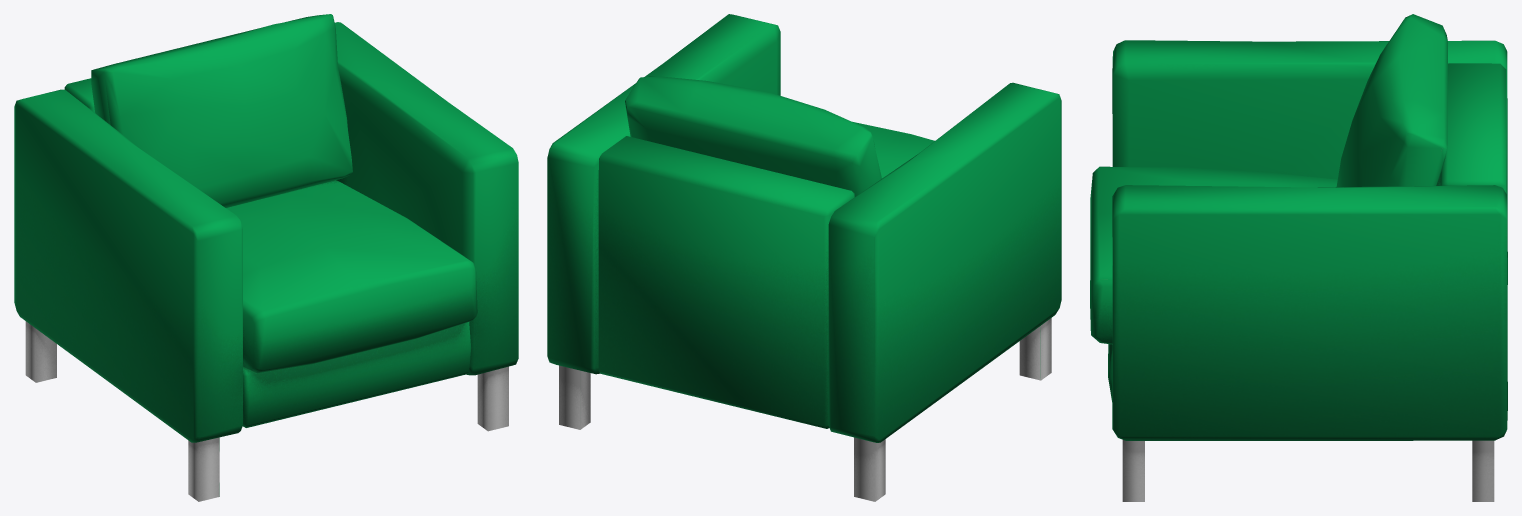
File: Sillon-Karlstad-PBR.gltf
3 views of the same model, side by side, from view 1: azimuth 30°, elevation 25°; view 2: azimuth 150°, elevation 25°; view 3: azimuth 270°, elevation 25° (orthographic). The views are drawn at different scales.
Parts seen in each view (by area): view 1: Chair Karlstad.001; view 2: Chair Karlstad.001; view 3: Chair Karlstad.001.
Part boxes in pixels (x1,y1,x2,y2): Chair Karlstad.001: [14, 14, 518, 501]; Chair Karlstad.001: [547, 14, 1061, 501]; Chair Karlstad.001: [1090, 14, 1507, 501].
Size of the model in its own units: 0.834 by 0.8105 by 0.8681.
1 material, 1 textured.
